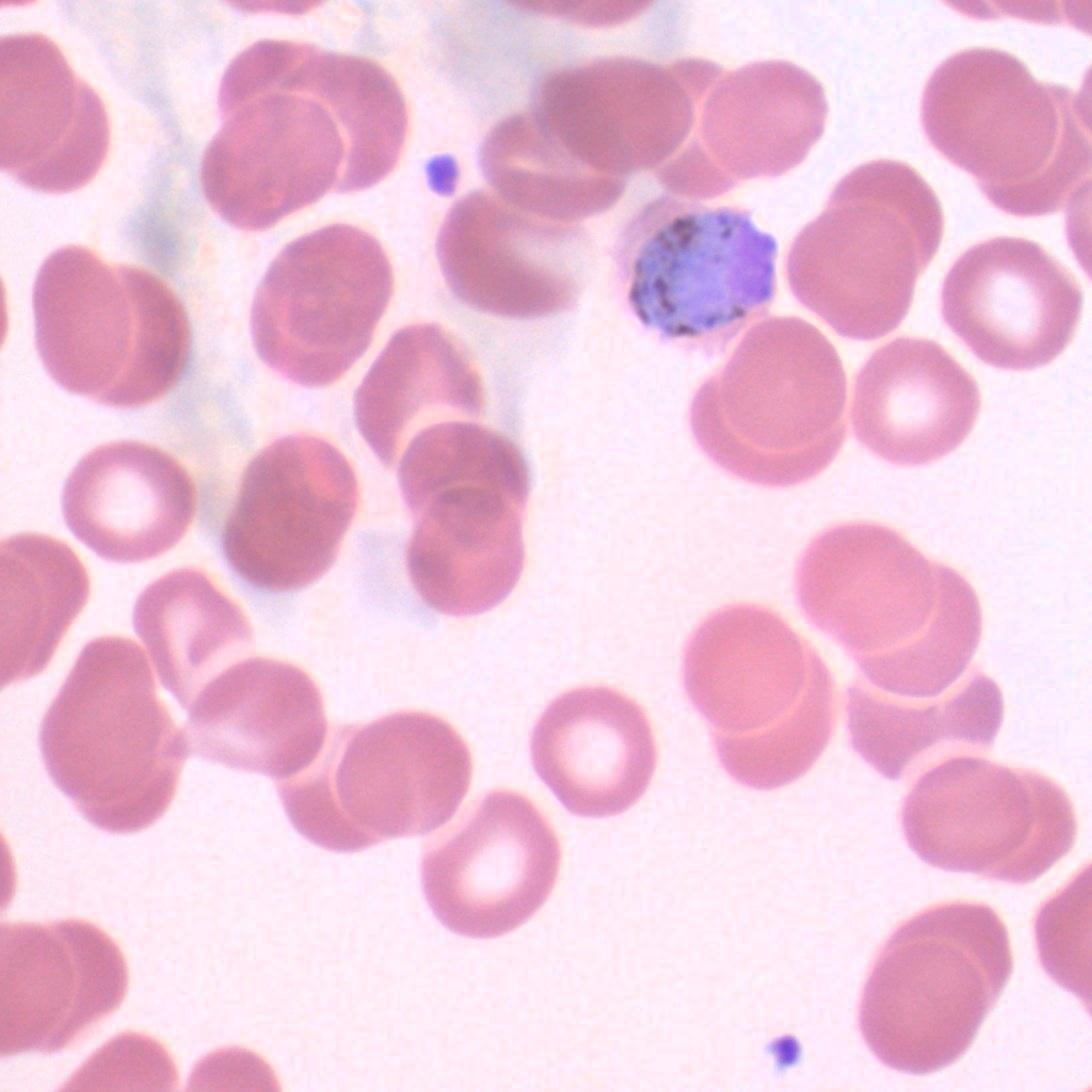Infected: (605, 188, 787, 362)
Uninfected: (42, 635, 184, 830), (702, 631, 840, 799), (249, 223, 392, 383), (225, 434, 361, 591), (420, 791, 555, 944), (924, 46, 1061, 195), (204, 88, 350, 227), (73, 253, 198, 410), (675, 596, 813, 737), (797, 521, 943, 653), (788, 197, 923, 339), (330, 708, 472, 841), (354, 322, 484, 467), (858, 933, 990, 1075), (165, 658, 322, 777), (938, 235, 1079, 367), (717, 313, 847, 456), (541, 59, 693, 177), (846, 663, 999, 779), (270, 716, 400, 851), (438, 192, 576, 319), (23, 233, 128, 399), (685, 376, 835, 490), (525, 691, 660, 817), (135, 571, 252, 716), (52, 446, 197, 560), (850, 334, 978, 463), (901, 754, 1043, 867), (697, 60, 827, 183), (478, 117, 624, 225), (295, 54, 409, 192), (890, 896, 1012, 1021), (406, 495, 525, 619), (399, 417, 524, 522), (3, 918, 87, 1052), (217, 36, 339, 118), (990, 771, 1078, 879)
